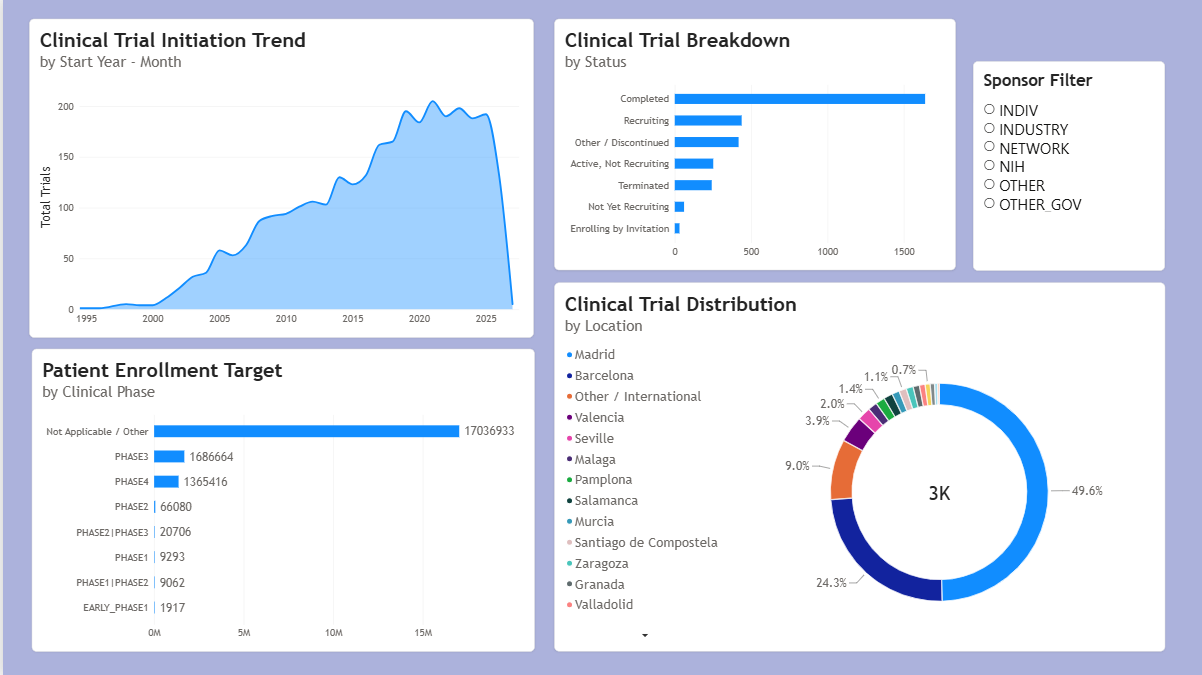

The dashboard page shown, as its layout file describes it:
{"tool":"powerbi","page":{"name":"Time & Geographic Distribution","canvas":[1920,1080],"ordinal":1},"visuals":[{"type":"areaChart","title":"Clinical Trial Initiation Trend","fields":{"Y":["_Key Metrics.Total Trials"],"Category":["cleaned_clinical_trials.start_date.Variation.Date Hierarchy.Year","cleaned_clinical_trials.start_date.Variation.Date Hierarchy.Quarter","cleaned_clinical_trials.start_date.Variation.Date Hierarchy.Month","cleaned_clinical_trials.start_date.Variation.Date Hierarchy.Day"]},"box":[42.5,30,807.5,510],"z":0},{"type":"clusteredBarChart","title":"Patient Enrollment Target","fields":{"Category":["cleaned_clinical_trials.phase_clean"],"Y":["_Key Metrics.Total Enrollment Target"]},"box":[45,557.5,805,485],"z":1000},{"type":"listSlicer","title":"Sponsor Filter","fields":{"Values":["cleaned_clinical_trials.funder_type"]},"box":[1552.5,97.5,307.5,335],"z":2000},{"type":"donutChart","title":"Clinical Trial Distribution","fields":{"Category":["location.city"],"Y":["_Key Metrics.Total Trials"]},"box":[882.5,452.5,977.5,590],"z":3000},{"type":"barChart","title":"Clinical Trial Breakdown","fields":{"Y":["_Key Metrics.Total Trials"],"Category":["cleaned_clinical_trials.status_clean"]},"box":[882.5,30,642.5,402.5],"z":3001}]}

Visuals, with their boxes in screenshot pixels (x1, y1, x2, y2), scaled from the page's 1920x1080 canvas onto the 1202x675 screenshot:
"Clinical Trial Initiation Trend" areaChart: [x1=27, y1=19, x2=532, y2=338]
"Patient Enrollment Target" clusteredBarChart: [x1=28, y1=348, x2=532, y2=652]
"Sponsor Filter" listSlicer: [x1=972, y1=61, x2=1164, y2=270]
"Clinical Trial Distribution" donutChart: [x1=552, y1=283, x2=1164, y2=652]
"Clinical Trial Breakdown" barChart: [x1=552, y1=19, x2=955, y2=270]
